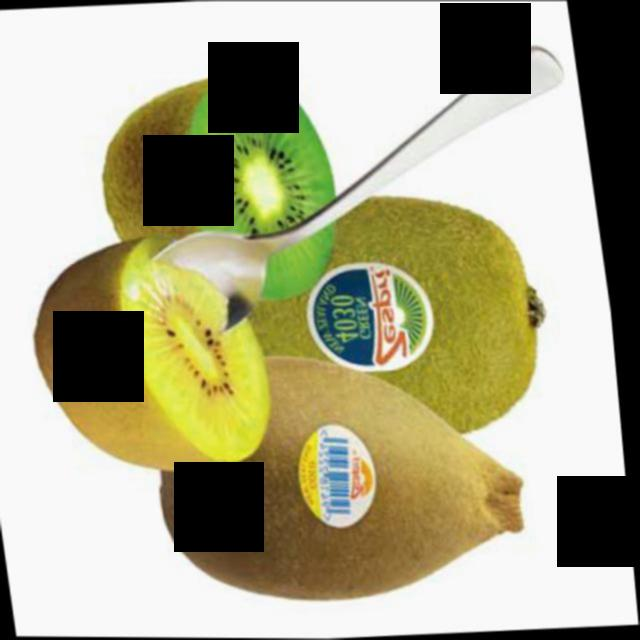kiwi: (134, 346, 549, 619), (248, 182, 567, 445)
